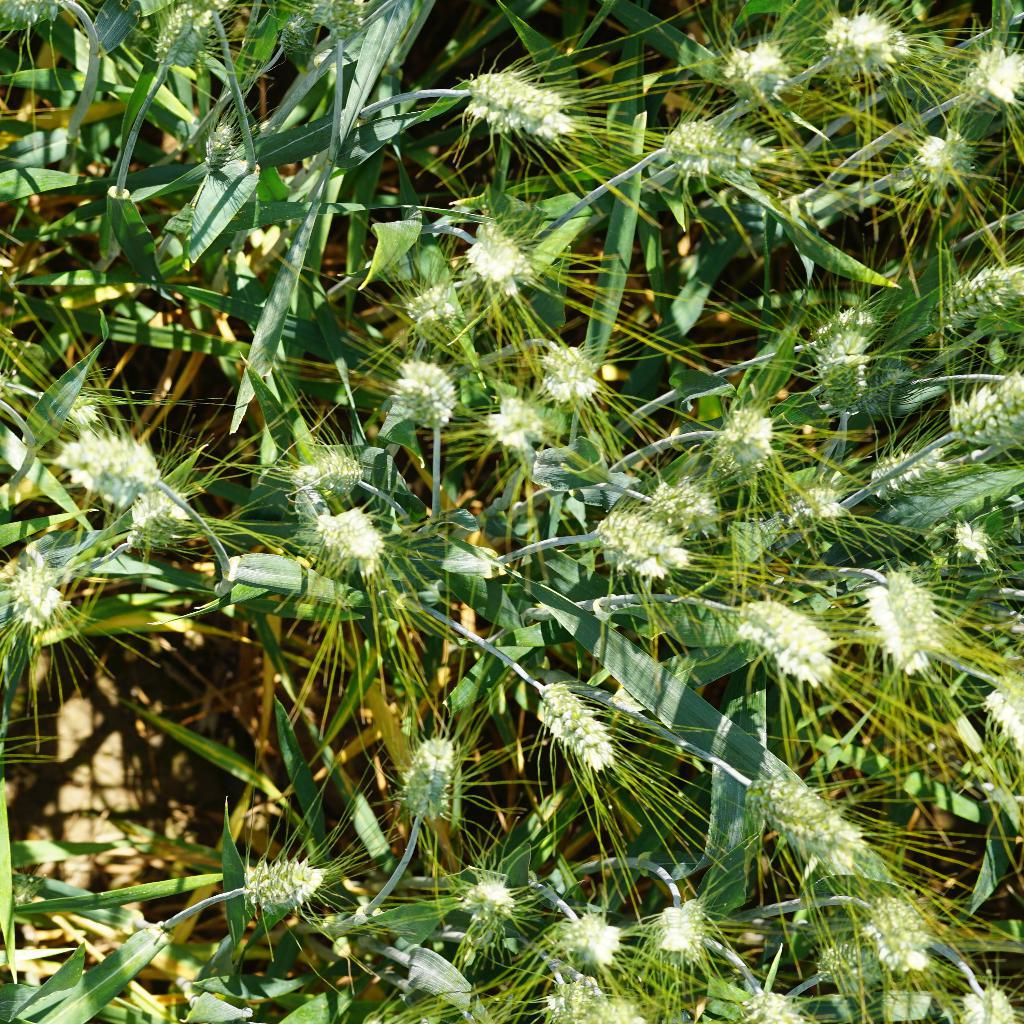0-0: (731, 758, 870, 870), (651, 104, 792, 189), (443, 67, 585, 144), (534, 675, 638, 774), (389, 717, 478, 826), (733, 590, 834, 683), (59, 430, 174, 511), (869, 552, 945, 673), (933, 247, 1024, 340), (844, 897, 945, 978), (722, 26, 815, 112), (440, 209, 538, 290), (822, 2, 922, 78), (220, 847, 325, 915), (598, 516, 688, 595), (860, 443, 967, 509), (526, 326, 605, 414), (687, 399, 776, 475), (129, 0, 219, 75), (313, 497, 396, 576), (275, 423, 367, 494), (485, 393, 555, 484), (395, 357, 462, 449), (949, 370, 1024, 452), (962, 672, 1024, 771), (0, 552, 74, 634), (189, 101, 250, 191), (647, 474, 725, 538), (811, 347, 885, 414), (956, 36, 1024, 102), (920, 116, 985, 185), (649, 893, 718, 956), (556, 900, 624, 963), (411, 273, 473, 342), (447, 866, 529, 916), (799, 459, 851, 534), (733, 982, 821, 1024), (298, 0, 378, 44), (55, 378, 119, 428), (943, 521, 999, 572)
